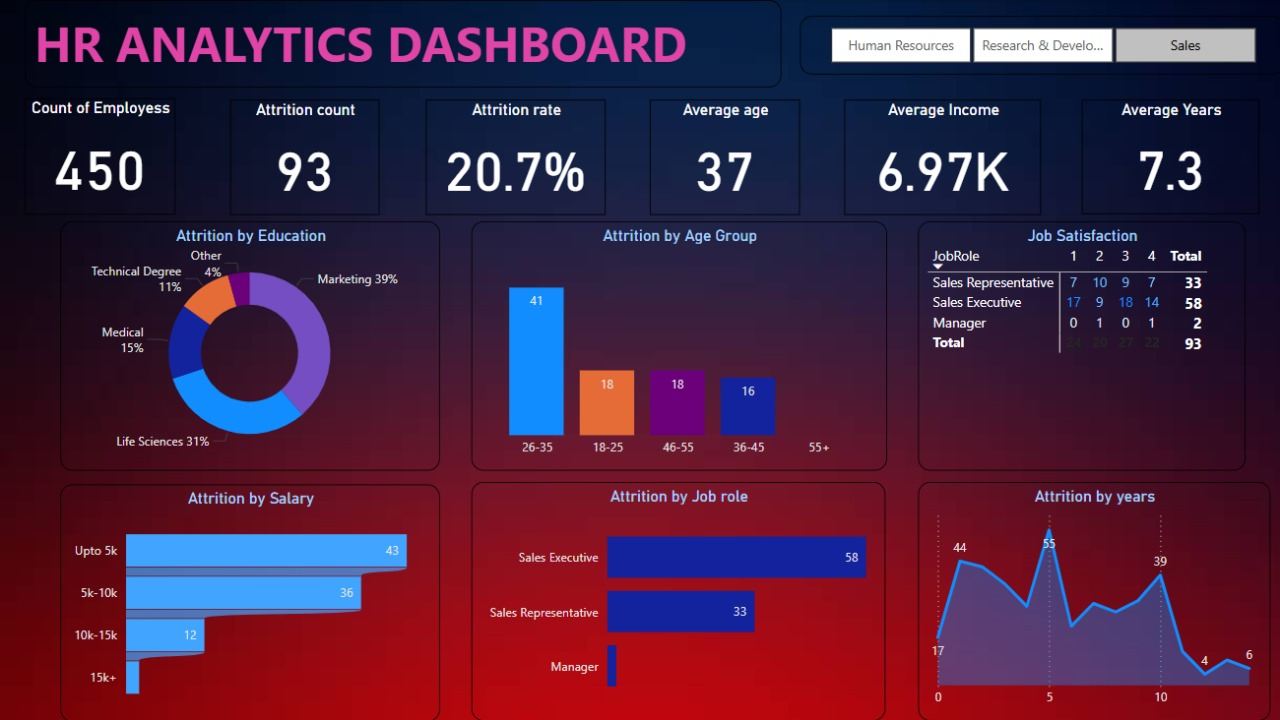

The page's visual inventory and layout, read from the dashboard file:
{"tool":"powerbi","page":{"name":"Page 1","canvas":[1280,720],"ordinal":0},"visuals":[{"type":"card","title":"Count of Employess","fields":{"Values":["Sum(HR_Analytics.EmployeeCount)"]},"box":[24.3,98.6,150,115.7],"z":0},{"type":"card","title":"Attrition count","fields":{"Values":["Sum(HR_Analytics.Attrition count)"]},"box":[229.4,99.4,148.5,115.3],"z":1000},{"type":"card","title":"Attrition rate","fields":{"Values":["HR_Analytics.Attrition rate"]},"box":[424.5,99.4,179.1,115.3],"z":2000},{"type":"card","title":"Average age","fields":{"Values":["HR_Analytics.Average age"]},"box":[647.9,99.4,149.7,115.3],"z":3000},{"type":"card","title":"Average Income","fields":{"Values":["Avg(HR_Analytics.MonthlyIncome)"]},"box":[841.7,99.4,196.3,115.3],"z":4000},{"type":"card","title":"Average Years","fields":{"Values":["Avg(HR_Analytics.YearsAtCompany)"]},"box":[1078.6,100,177.1,114.3],"z":6000},{"type":"donutChart","title":"Attrition by Education","fields":{"Y":["Sum(HR_Analytics.Attrition count)"],"Category":["HR_Analytics.EducationField"]},"box":[60,221.4,378.6,248.6],"z":7000},{"type":"columnChart","title":"Attrition by Age Group","fields":{"Y":["Sum(HR_Analytics.Attrition count)"],"Category":["HR_Analytics.AgeGroup"],"Series":["HR_Analytics.AgeGroup"]},"box":[470,221.4,414.3,248.6],"z":8000},{"type":"pivotTable","title":"Job Satisfaction","fields":{"Rows":["HR_Analytics.JobRole"],"Columns":["HR_Analytics.JobSatisfaction"],"Values":["Sum(HR_Analytics.Attrition count)"]},"box":[915.7,221.4,325.7,248.6],"z":9000},{"type":"barChart","title":"Attrition by Salary","fields":{"Category":["HR_Analytics.SalarySlab"],"Y":["Sum(HR_Analytics.Attrition count)"]},"box":[60,482.9,378.6,237.1],"z":10000},{"type":"barChart","title":"Attrition by Job role","fields":{"Series":["HR_Analytics.Attrition count"],"Y":["Sum(HR_Analytics.Attrition count)"],"Category":["HR_Analytics.JobRole"]},"box":[470,481.4,412.9,238.6],"z":11000},{"type":"areaChart","title":"Attrition by years","fields":{"Category":["HR_Analytics.YearsAtCompany"],"Y":["CountNonNull(HR_Analytics.JobRole)"]},"box":[929.1,481.9,350.6,238.1],"z":12000},{"type":"slicer","fields":{"Values":["HR_Analytics.Department"]},"box":[797.1,15.7,482.9,58.6],"z":13000},{"type":"textbox","box":[24.3,0,754.3,87.1],"z":14000}]}

Visuals, with their boxes in screenshot pixels (x1, y1, x2, y2), scaled from the page's 1280x720 canvas onto the 1280x720 screenshot:
"Count of Employess" card: bbox=(24, 99, 174, 214)
"Attrition count" card: bbox=(229, 99, 378, 215)
"Attrition rate" card: bbox=(424, 99, 604, 215)
"Average age" card: bbox=(648, 99, 798, 215)
"Average Income" card: bbox=(842, 99, 1038, 215)
"Average Years" card: bbox=(1079, 100, 1256, 214)
"Attrition by Education" donutChart: bbox=(60, 221, 439, 470)
"Attrition by Age Group" columnChart: bbox=(470, 221, 884, 470)
"Job Satisfaction" pivotTable: bbox=(916, 221, 1241, 470)
"Attrition by Salary" barChart: bbox=(60, 483, 439, 719)
"Attrition by Job role" barChart: bbox=(470, 481, 883, 719)
"Attrition by years" areaChart: bbox=(929, 482, 1279, 719)
slicer - HR_Analytics.Department: bbox=(797, 16, 1279, 74)
textbox: bbox=(24, 0, 779, 87)
